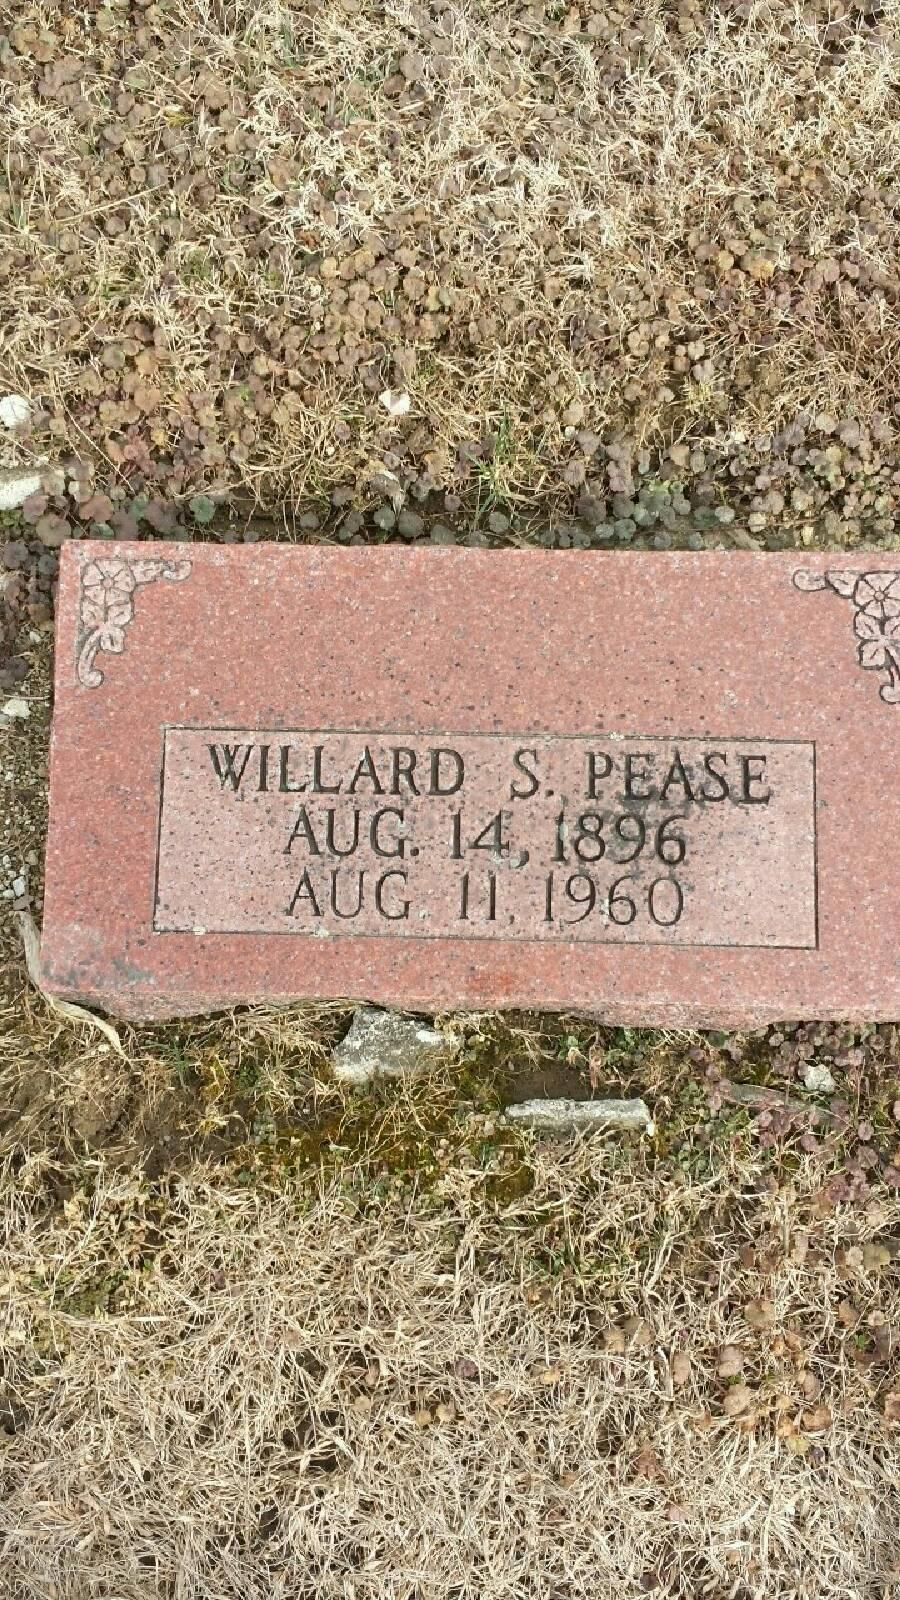flat: (35, 480, 900, 1108)
